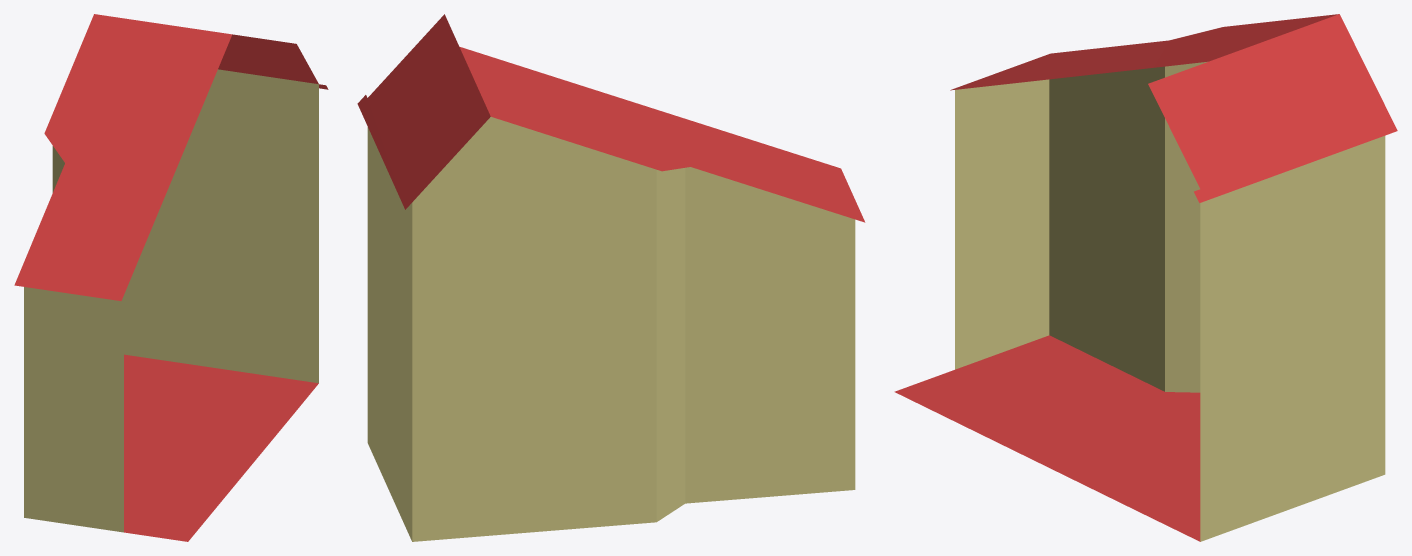
3 renders of one model, left to right at view 1: azimuth 30°, elevation 25°; view 2: azimuth 150°, elevation 25°; view 3: azimuth 270°, elevation 25°, orthographic. The views are drawn at different scales.
Bounding box in the file's own units: 14.48 × 14.18 × 13.44.
